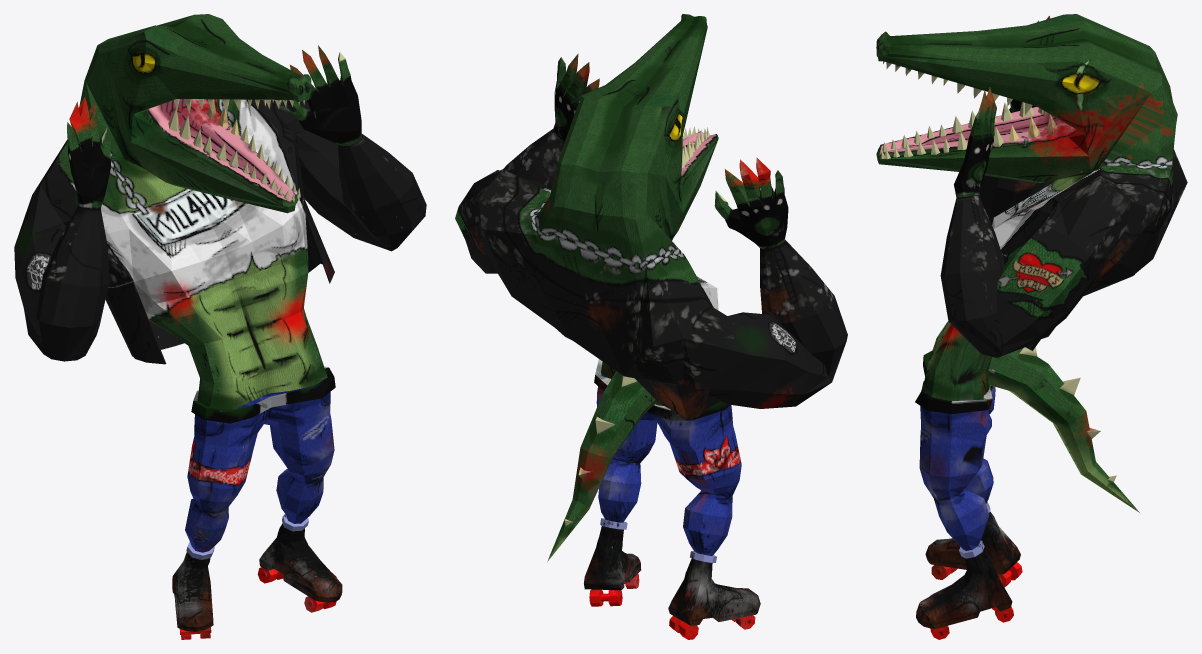
Rendered from cocodrilaBonesSelect_000017.obj.
3 renders of one model, left to right at view 1: azimuth 30°, elevation 25°; view 2: azimuth 150°, elevation 25°; view 3: azimuth 270°, elevation 25°, orthographic.
Parts seen in each view (by area): view 1: Crocodile.002_Cylinder.002; view 2: Crocodile.002_Cylinder.002; view 3: Crocodile.002_Cylinder.002.
Part boxes in pixels (x1,y1,x2,y2): Crocodile.002_Cylinder.002: (14,14,426,639); Crocodile.002_Cylinder.002: (455,14,847,639); Crocodile.002_Cylinder.002: (876,14,1187,639).
Size of the model in its own units: 4.53 by 6.58 by 3.22.
